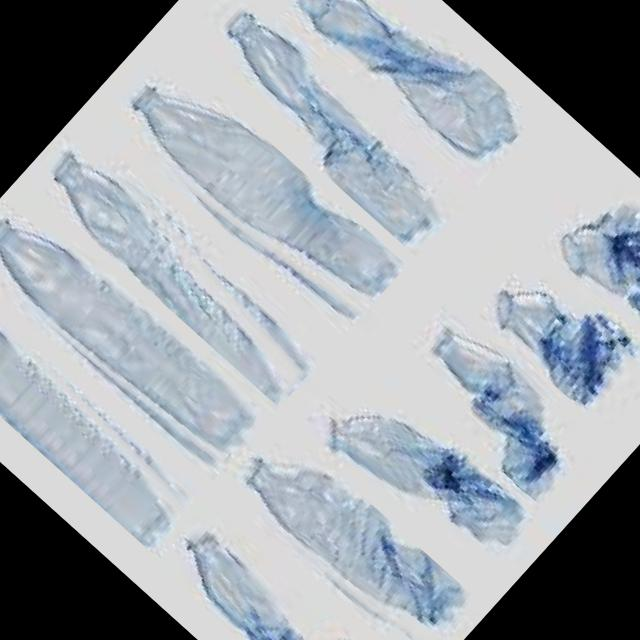plastic bottle: (22, 117, 334, 409), (100, 50, 408, 341), (0, 189, 266, 478), (190, 0, 472, 257), (0, 260, 213, 558), (218, 422, 480, 640), (295, 358, 537, 588), (387, 296, 618, 518), (268, 0, 534, 187), (152, 498, 399, 640), (470, 244, 640, 431), (550, 179, 640, 349)
